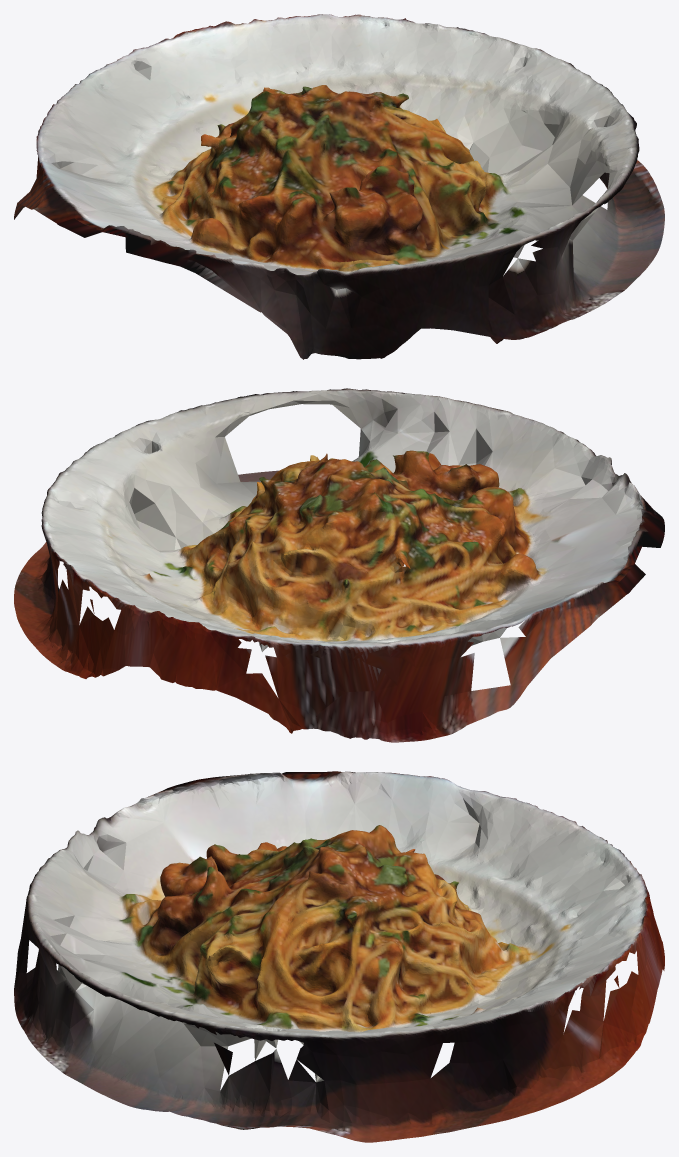
Rendered from pasta-fettuccine-ragu-android.glb.
The picture shows the model from 3 angles, top to bottom: view 1: azimuth 30°, elevation 25°; view 2: azimuth 150°, elevation 25°; view 3: azimuth 270°, elevation 25°; orthographic projection. The views are drawn at different scales.
Visible parts, largest first — view 1: mesh; view 2: mesh; view 3: mesh.
Part boxes in pixels (x1=…): mesh: x1=14, y1=14, x2=664, y2=359; mesh: x1=14, y1=388, x2=664, y2=742; mesh: x1=14, y1=771, x2=664, y2=1142.
Size of the model in its own units: 0.26 by 0.0688 by 0.2479.
1 material, 1 textured.
